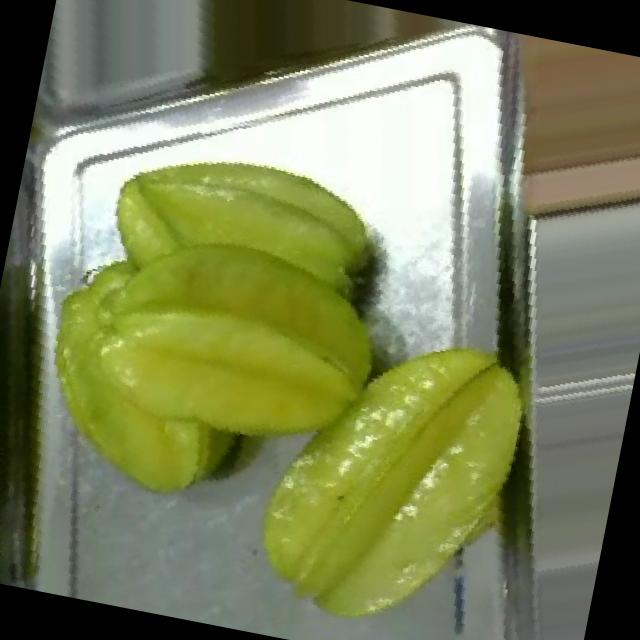fruit: (26, 73, 448, 459), (207, 278, 584, 640), (421, 21, 640, 273), (150, 0, 488, 140)
